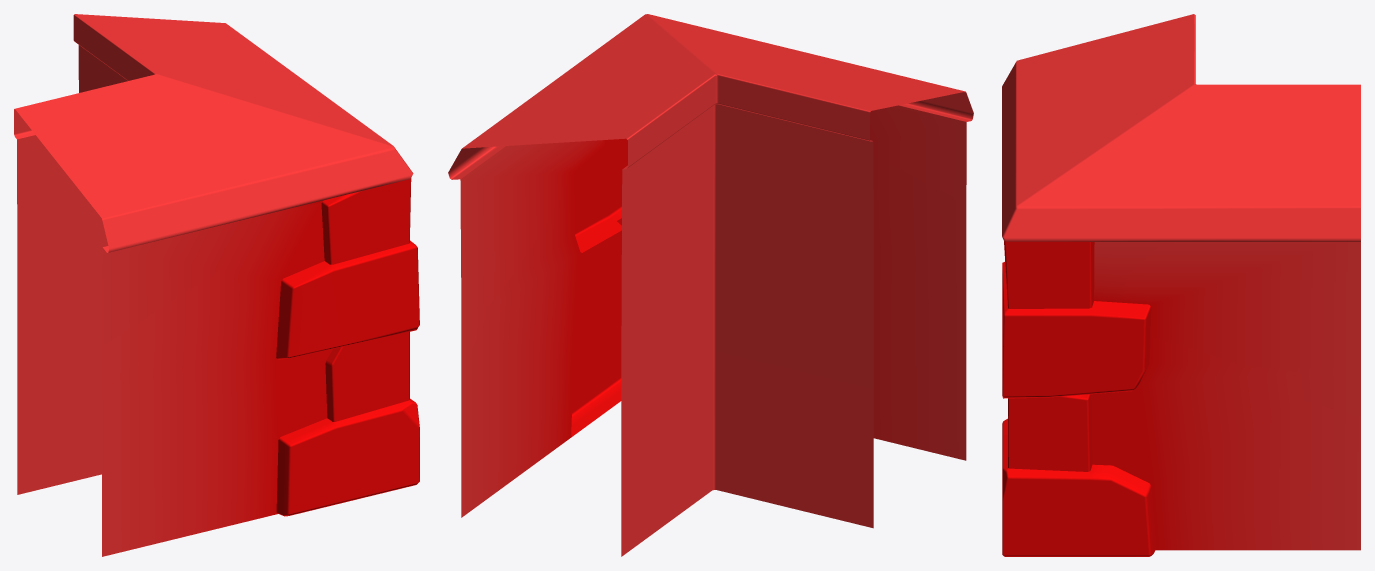
File: Battlements_Corner_V2.fbx
3 views of the same model, side by side, from view 1: azimuth 30°, elevation 25°; view 2: azimuth 150°, elevation 25°; view 3: azimuth 270°, elevation 25° (orthographic). The views are drawn at different scales.
Visible parts, largest first — view 1: Battlements_Corner_V2 COL; view 2: Battlements_Corner_V2 COL; view 3: Battlements_Corner_V2 COL.
Part boxes in pixels (x1=…): Battlements_Corner_V2 COL: x1=14, y1=14, x2=419, y2=556; Battlements_Corner_V2 COL: x1=448, y1=14, x2=973, y2=556; Battlements_Corner_V2 COL: x1=1002, y1=14, x2=1360, y2=556.
Size of the model in its own units: 159 by 188 by 156.
